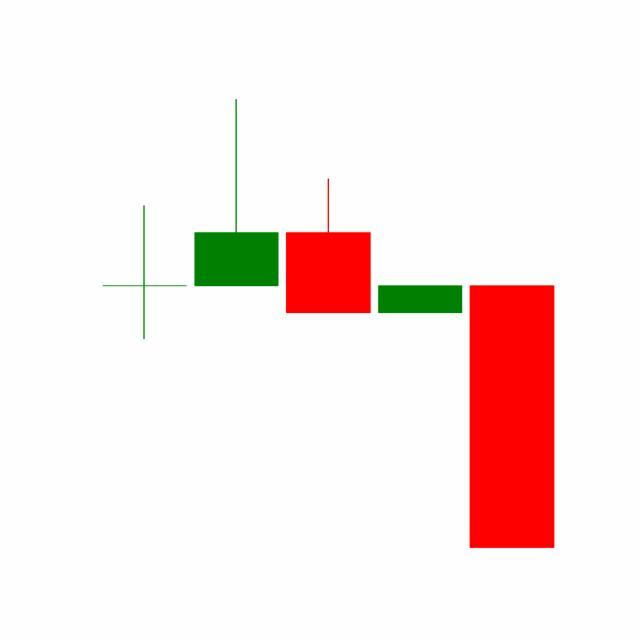Marubozu: (466, 283, 559, 551)
